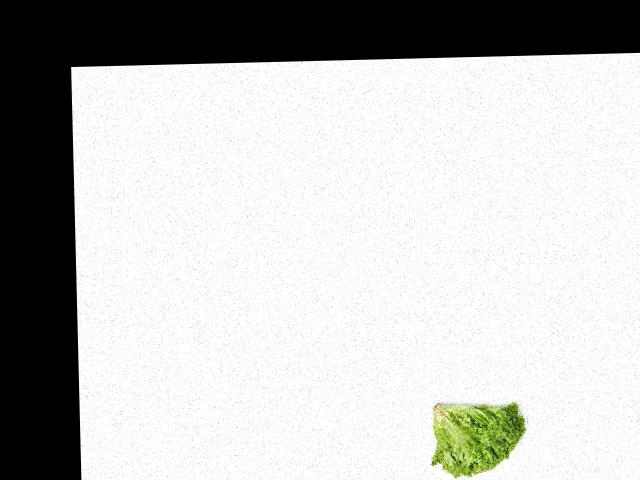lettuce: (426, 392, 531, 480)
